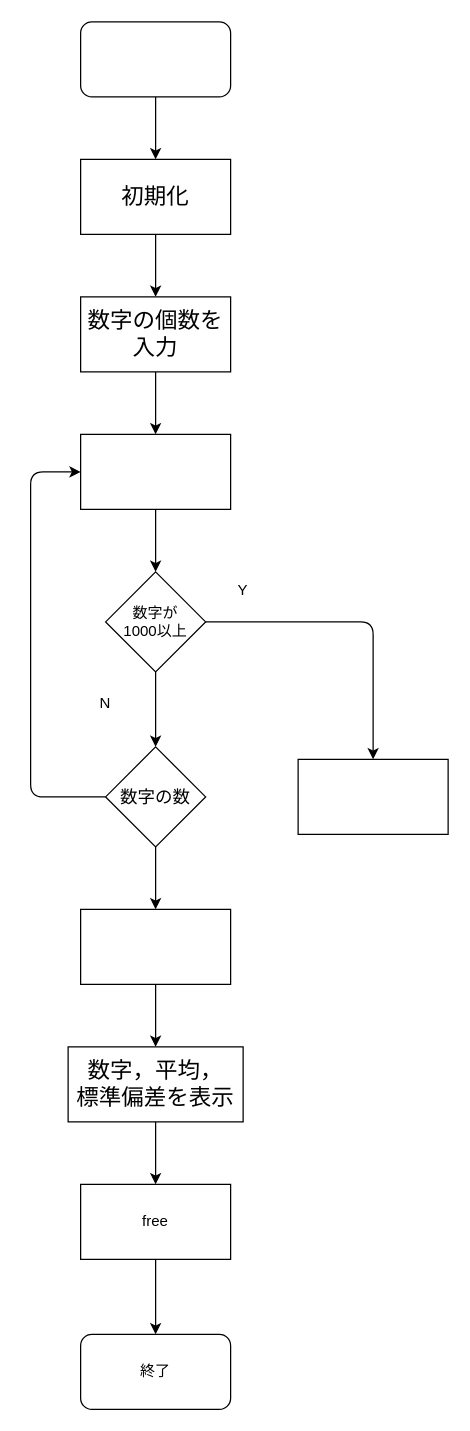
Some shapes in this 470 by 1431 pixel diagram are drawn without their labels. The shapes that lost their labels are listed below. From the top down, each one's centre as x and y in pixels, then its label:
point 155,59: 開始
point 155,471: 数字を入力
point 372,796: 強制終了
point 155,946: 平均と標準偏差を 求める関数を実行
